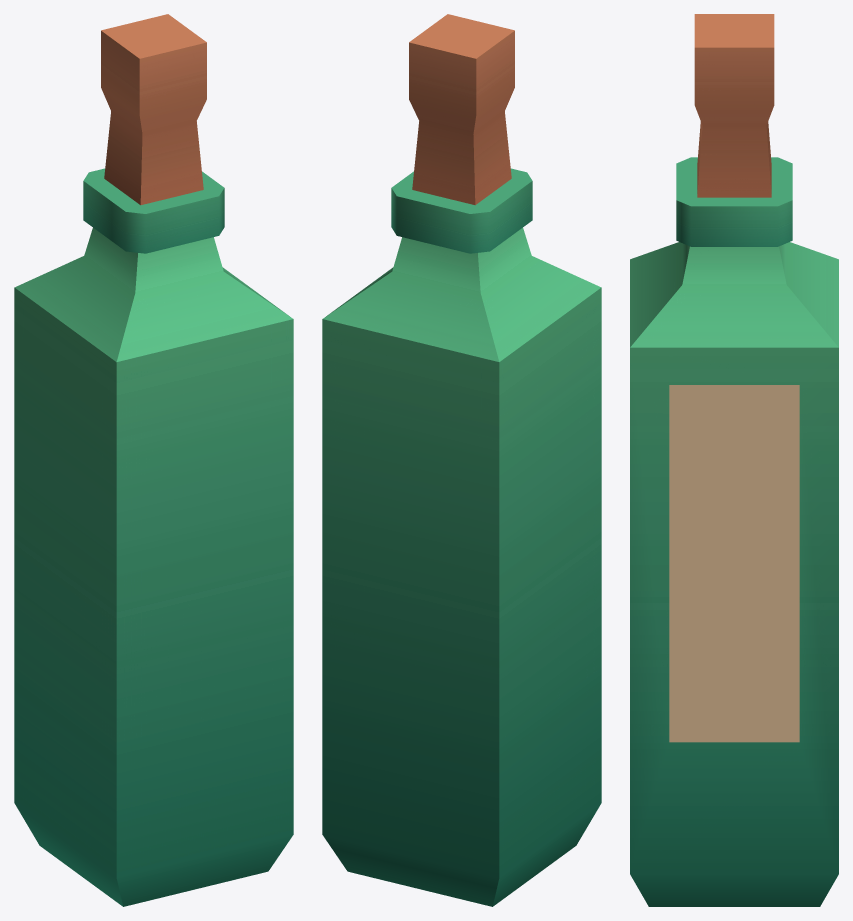
Rendered from bottle.glb.
3 renders of one model, left to right at view 1: azimuth 30°, elevation 25°; view 2: azimuth 150°, elevation 25°; view 3: azimuth 270°, elevation 25°, orthographic. The views are drawn at different scales.
Visible parts, largest first — view 1: bottle-oil; view 2: bottle-oil; view 3: bottle-oil.
Boxes of the visible parts, x1,y1,x2,y2 form: bottle-oil: [14, 14, 293, 906]; bottle-oil: [322, 14, 601, 906]; bottle-oil: [630, 14, 838, 906].
Bounding box in the file's own units: 0.054 × 0.24 × 0.054.
1 material, 1 textured.
